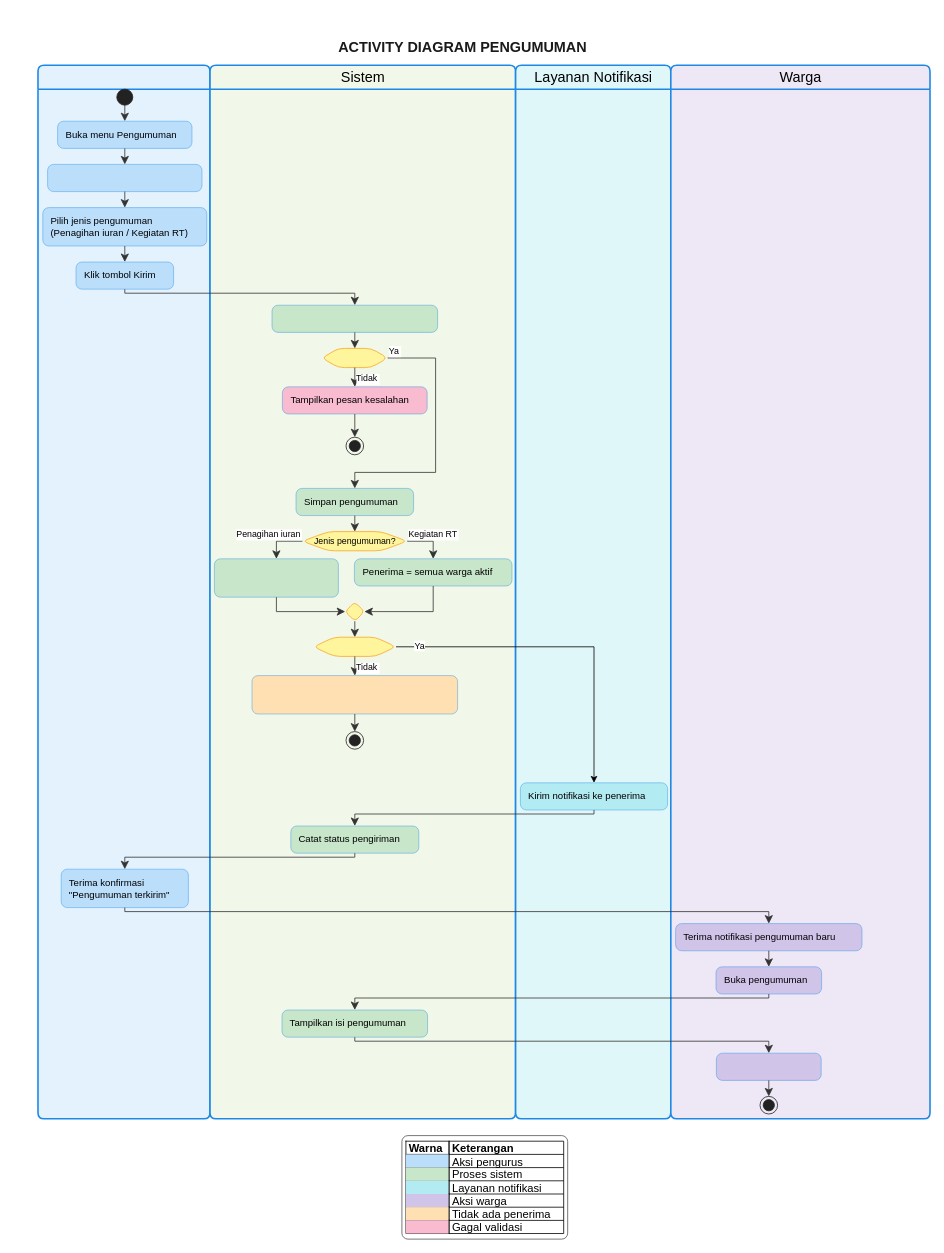
This 944x1253 diagram has some shape labels left out. The shapes that lost their labels are listed below. From the top down, each one's box as (x1, y1, x2, y2) in pixels, then its label:
(47, 164, 202, 191): Isi judul dan isi pengumuman
(271, 305, 437, 332): Validasi judul & isi tidak kosong
(321, 348, 388, 368): Data valid?
(37, 64, 210, 1119): Pengurus
(214, 558, 338, 597): Penerima = warga aktif yang belum lunas
(313, 636, 396, 656): Ada penerima?
(251, 675, 457, 714): Tidak ada penerima, pengumuman tersimpan tanpa notifikasi
(716, 1053, 821, 1080): Baca pengumuman
